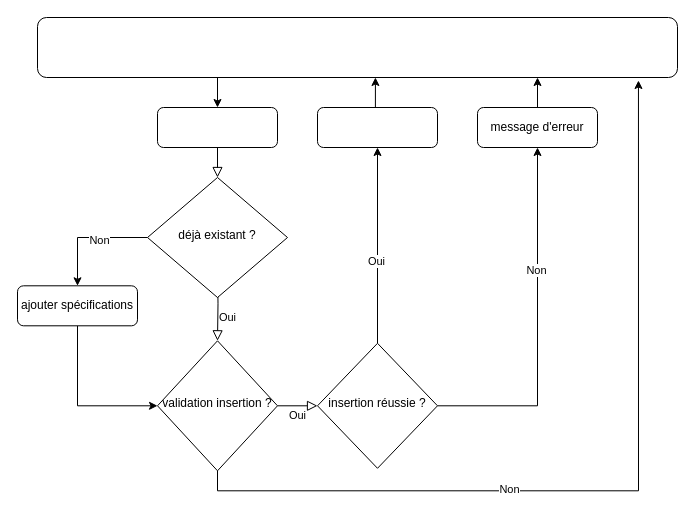
Image size: 695x517. Some labels were removed from this diagram. Each missing label, with the centre of its shape:
ajouter un objet: the point at 217,127
nouvelle entrée dans les objets disponibles: the point at 377,127
Page de base de l'application: the point at 357,47
